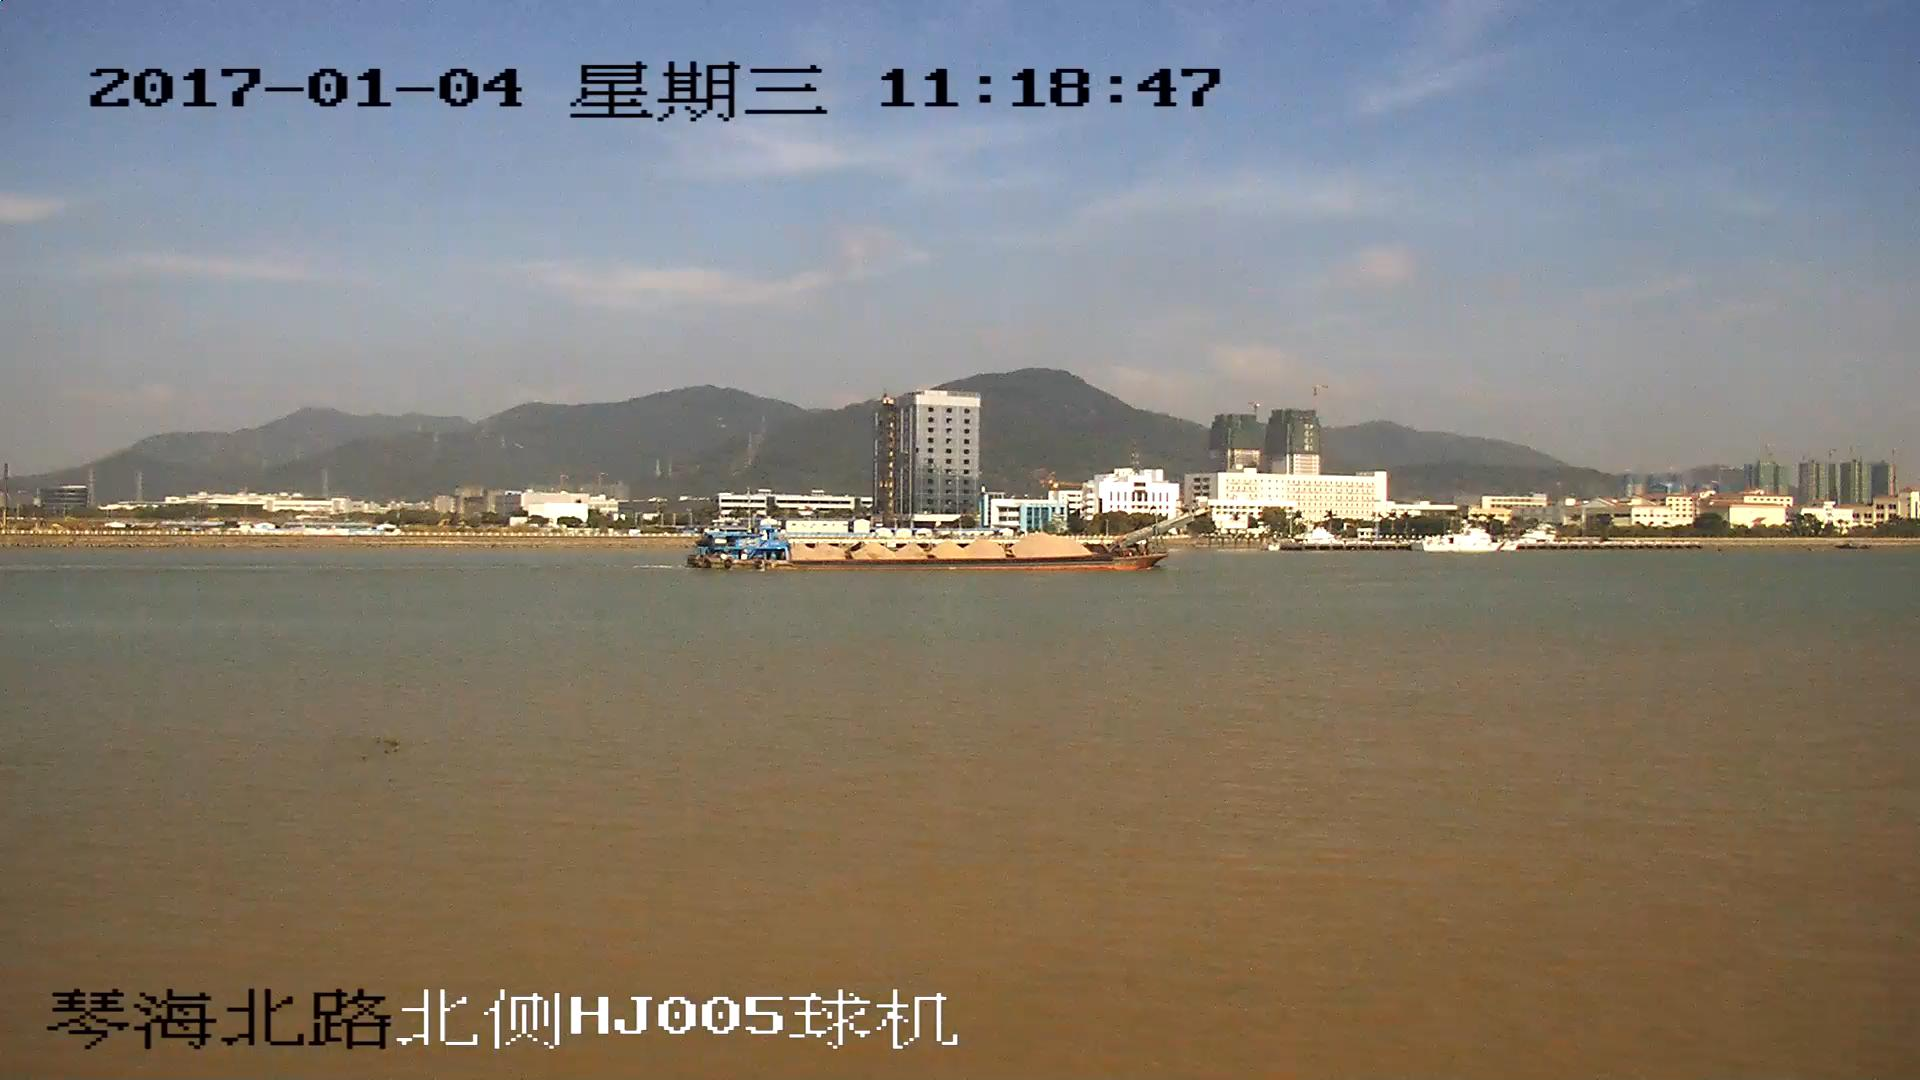ore carrier: (694, 511, 1208, 572)
